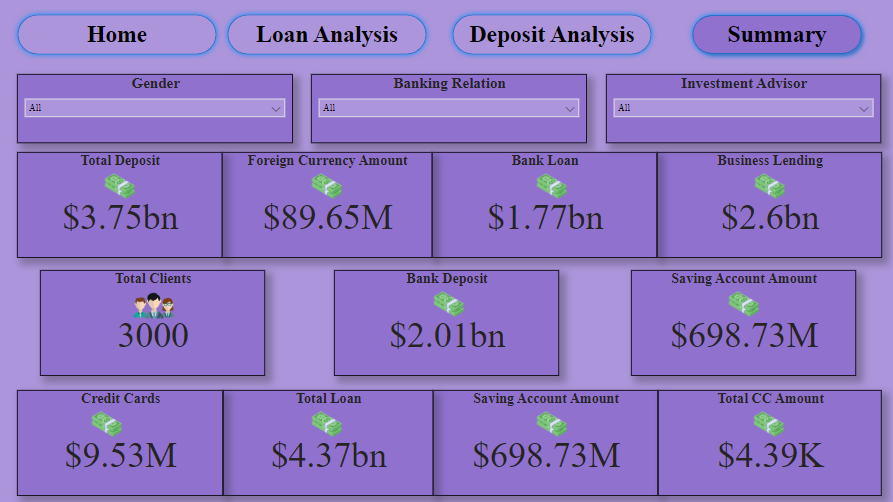

What the dashboard file says about the page in this screenshot:
{"tool":"powerbi","page":{"name":"Summary","canvas":[1280,720],"ordinal":3},"visuals":[{"type":"shape","box":[959.5,19.8,297.6,72.3],"z":0},{"type":"shape","box":[640.6,19.8,297.6,72.3],"z":1000},{"type":"shape","box":[321.7,19.8,297.6,72.3],"z":2000},{"type":"slicer","title":"Banking Relation","fields":{"Values":["Clients - Banking.Banking Relationship"]},"box":[447.9,112,391.2,97.8],"z":3000},{"type":"slicer","title":"Gender","fields":{"Values":["Clients - Banking.Gender.Gender"]},"box":[31.2,112,391.2,97.8],"z":4000},{"type":"card","title":"Business Lending","fields":{"Values":["Sum(Clients - Banking.Business Lending)"]},"box":[938.3,222.5,318.9,150.2],"z":5000},{"type":"card","title":"Bank Loan","fields":{"Values":["Sum(Clients - Banking.Bank Loans)"]},"box":[619.4,222.5,318.9,150.2],"z":6000},{"type":"card","title":"Foreign Currency Amount","fields":{"Values":["Sum(Clients - Banking.Foreign Currency Account)"]},"box":[321.7,222.5,297.6,150.2],"z":7000},{"type":"card","title":"Saving Account Amount","fields":{"Values":["Banking Relationship.Saving Account Amount"]},"box":[620.8,559.8,318.9,150.2],"z":8000},{"type":"card","title":"Total Loan","fields":{"Values":["Banking Relationship.Total Loan"]},"box":[323.1,559.8,297.6,150.2],"z":9000},{"type":"card","title":"Credit Cards","fields":{"Values":["Sum(Clients - Banking.Credit Card Balance)"]},"box":[31.2,559.8,292,150.2],"z":10000},{"type":"card","title":"Saving Account Amount","fields":{"Values":["Banking Relationship.Saving Account Amount"]},"box":[901.4,389.8,318.9,150.2],"z":11000},{"type":"card","title":"Total Clients","fields":{"Values":["CountNonNull(Clients - Banking.Client ID)"]},"box":[63.8,389.8,318.9,150.2],"z":12000},{"type":"card","title":"Bank Deposit","fields":{"Values":["Sum(Clients - Banking.Bank Deposits)"]},"box":[480.5,389.8,318.9,150.2],"z":13000},{"type":"image","box":[151.7,413.9,148.8,51],"z":14000},{"type":"image","box":[724.3,243.8,130.4,53.9],"z":15000},{"type":"image","box":[405.4,243.8,130.4,53.9],"z":16000},{"type":"image","box":[1033.2,243.8,130.4,53.9],"z":17000},{"type":"image","box":[578.3,411,130.4,53.9],"z":18000},{"type":"image","box":[996.4,411,130.4,53.9],"z":19000},{"type":"image","box":[724.3,581.1,130.4,53.9],"z":20000},{"type":"image","box":[405.4,581.1,130.4,53.9],"z":21000},{"type":"image","box":[93.5,581.1,130.4,53.9],"z":22000},{"type":"slicer","title":"Investment Advisor","fields":{"Values":["Clients - Banking.Investment Advisor"]},"box":[866,112,389.8,97.8],"z":23000},{"type":"card","title":"Total Deposit","fields":{"Values":["Banking Relationship.Total Deposit"]},"box":[31.2,222.5,290.6,150.2],"z":24000},{"type":"card","title":"Total CC Amount","fields":{"Values":["Banking Relationship.Total CC Amount"]},"box":[939.7,559.8,317.5,150.2],"z":25000},{"type":"image","box":[1031.8,581.1,130.4,53.9],"z":26000},{"type":"image","box":[112,243.8,130.4,53.9],"z":27000},{"type":"shape","box":[24.1,19.8,297.6,72.3],"z":28000}]}

Visuals, with their boxes in screenshot pixels (x1, y1, x2, y2), scaled from the page's 1280x720 canvas onto the 893x502 screenshot:
shape: 669 14 877 64
shape: 447 14 655 64
shape: 224 14 432 64
"Banking Relation" slicer: 312 78 585 146
"Gender" slicer: 22 78 295 146
"Business Lending" card: 655 155 877 260
"Bank Loan" card: 432 155 655 260
"Foreign Currency Amount" card: 224 155 432 260
"Saving Account Amount" card: 433 390 656 495
"Total Loan" card: 225 390 433 495
"Credit Cards" card: 22 390 225 495
"Saving Account Amount" card: 629 272 851 376
"Total Clients" card: 45 272 267 376
"Bank Deposit" card: 335 272 558 376
image: 106 289 210 324
image: 505 170 596 208
image: 283 170 374 208
image: 721 170 812 208
image: 403 287 494 324
image: 695 287 786 324
image: 505 405 596 443
image: 283 405 374 443
image: 65 405 156 443
"Investment Advisor" slicer: 604 78 876 146
"Total Deposit" card: 22 155 225 260
"Total CC Amount" card: 656 390 877 495
image: 720 405 811 443
image: 78 170 169 208
shape: 17 14 224 64
